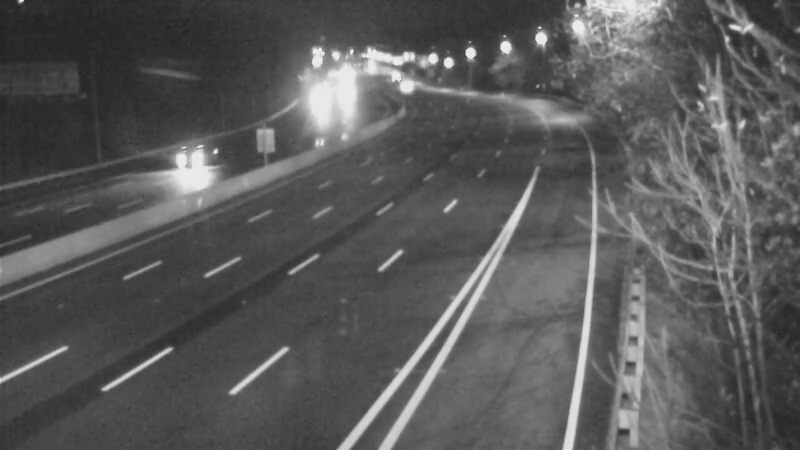vehicle: (144, 117, 224, 197), (377, 56, 427, 106), (293, 69, 343, 119), (318, 66, 368, 116)
